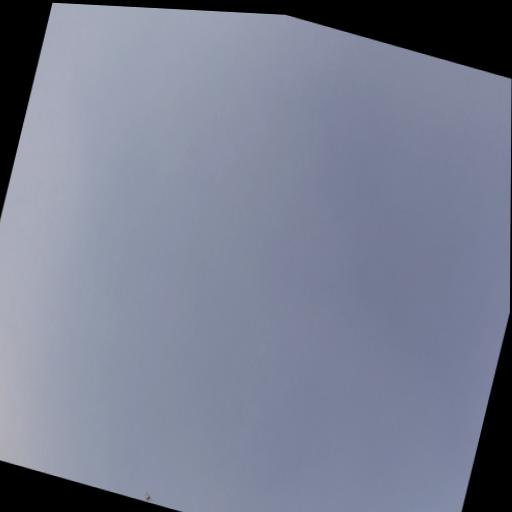drones: (142, 488, 156, 504)
